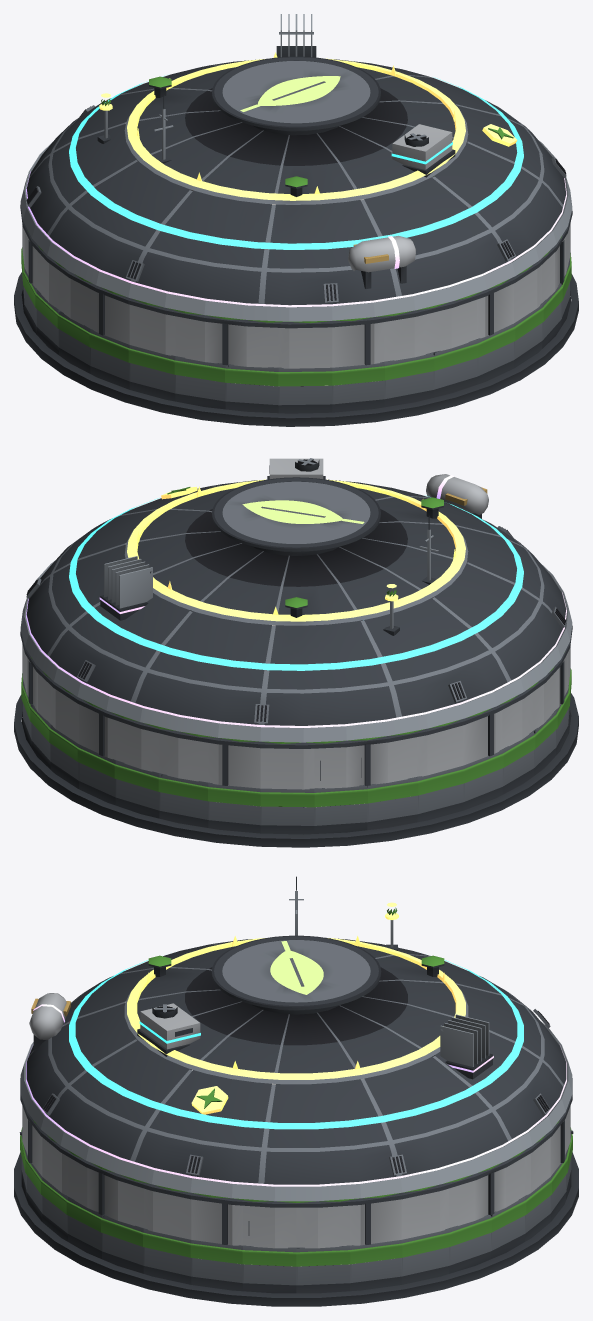
Rendered from fungus_farm_m_far.glb.
3 views of the same model, one above another, from view 1: azimuth 30°, elevation 25°; view 2: azimuth 150°, elevation 25°; view 3: azimuth 270°, elevation 25° (orthographic).
Parts seen in each view (by area): view 1: Roof, Base, L2, L3, L5, L4; view 2: Roof, Base, L2, L4, L3, L5; view 3: Roof, Base, L2, L3, L4, L5.
Part boxes in pixels (<box>): Roof: <box>20,56,572,368</box>; Base: <box>14,159,578,426</box>; L2: <box>20,95,572,321</box>; L3: <box>69,75,523,249</box>; L5: <box>97,52,517,200</box>; L4: <box>26,14,566,307</box>; Roof: <box>20,477,572,789</box>; Base: <box>14,597,578,847</box>; L2: <box>20,515,572,742</box>; L4: <box>26,474,566,727</box>; L3: <box>69,458,523,670</box>; L5: <box>127,479,465,635</box>; Roof: <box>20,935,572,1248</box>; Base: <box>14,1039,578,1306</box>; L2: <box>20,876,572,1201</box>; L3: <box>69,960,523,1129</box>; L4: <box>26,993,566,1186</box>; L5: <box>127,902,465,1114</box>.
Bounding box in the file's own units: 14.75 × 7.08 × 14.75.
